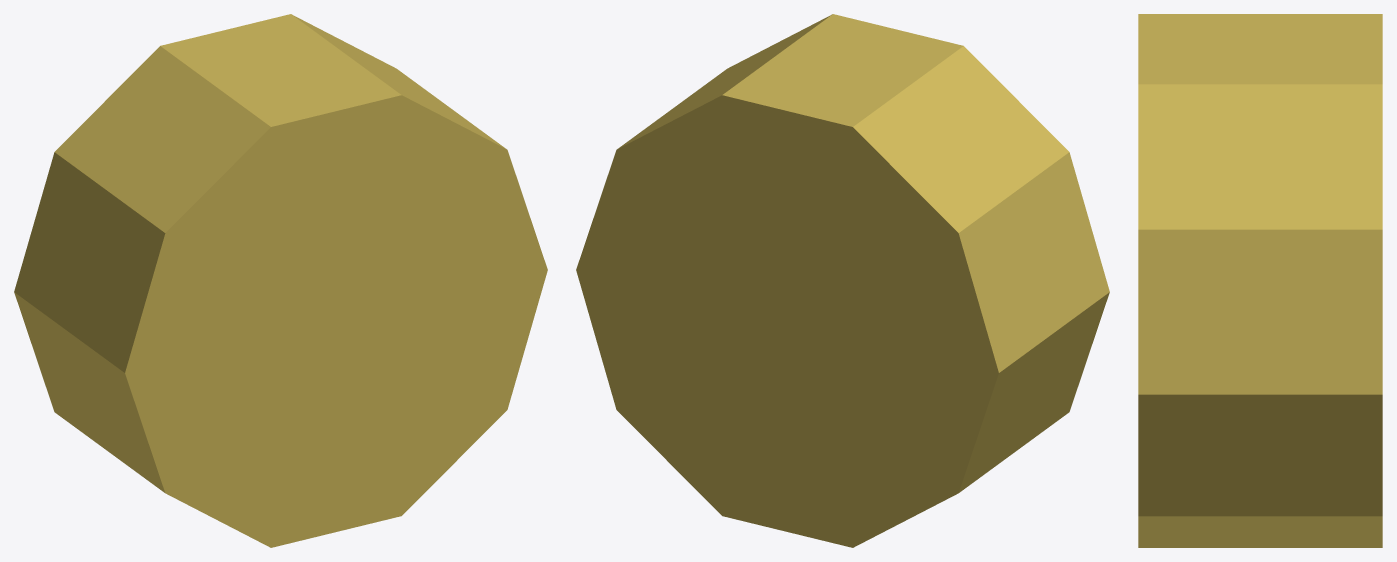
Rendered from Round.fbx.
3 views of the same model, side by side, from view 1: azimuth 30°, elevation 25°; view 2: azimuth 150°, elevation 25°; view 3: azimuth 270°, elevation 25° (orthographic). The views are drawn at different scales.
Parts seen in each view (by area): view 1: Round; view 2: Round; view 3: Round.
Part boxes in pixels (x1=…): Round: x1=14, y1=14, x2=547, y2=547; Round: x1=576, y1=14, x2=1109, y2=547; Round: x1=1138, y1=14, x2=1382, y2=547.
Size of the model in its own units: 35.1 by 33.39 by 15.94.
